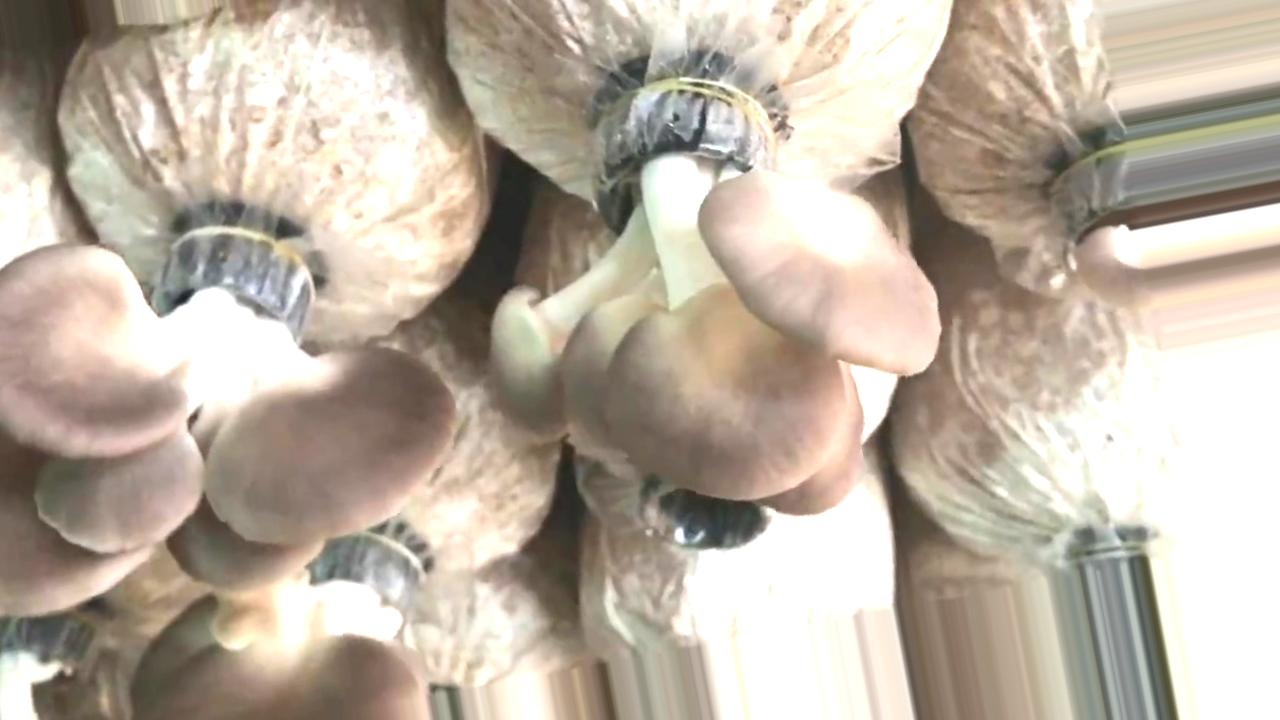nam: (492, 89, 937, 509), (1, 232, 452, 616), (138, 539, 431, 720), (1074, 130, 1142, 306)
